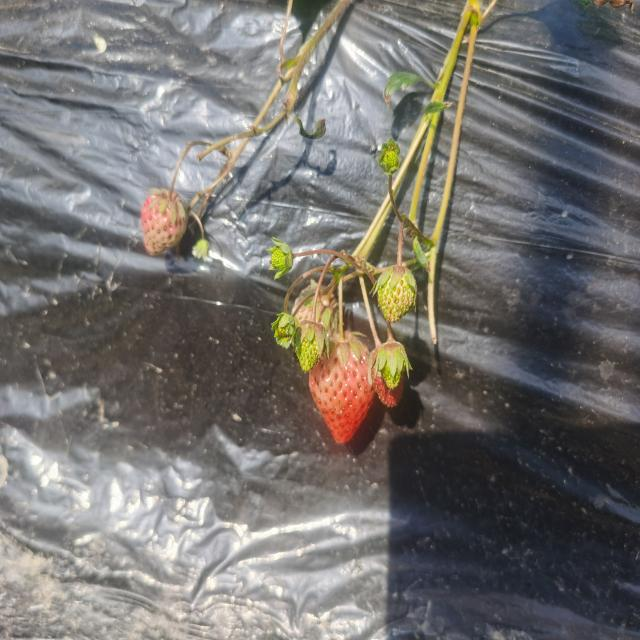stem: (364, 298, 381, 348), (169, 163, 181, 200), (338, 291, 345, 342)
strawberry: (309, 331, 375, 444), (141, 190, 188, 255), (368, 345, 403, 407)
